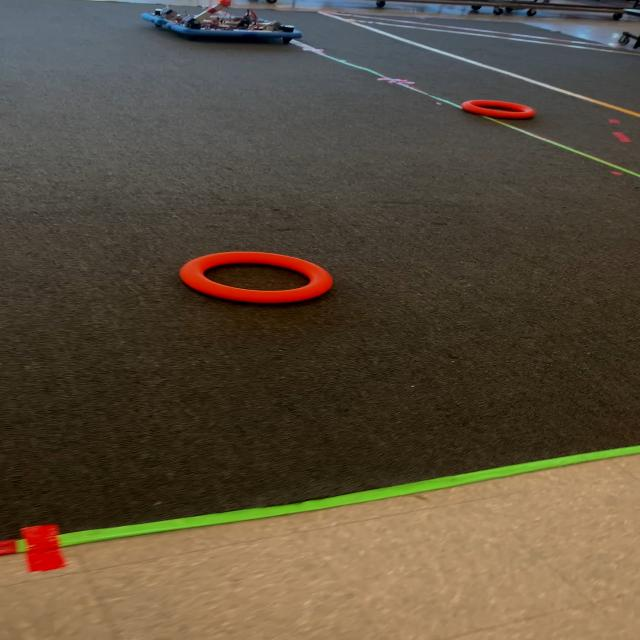notes: (182, 250, 336, 306), (457, 99, 534, 121)
